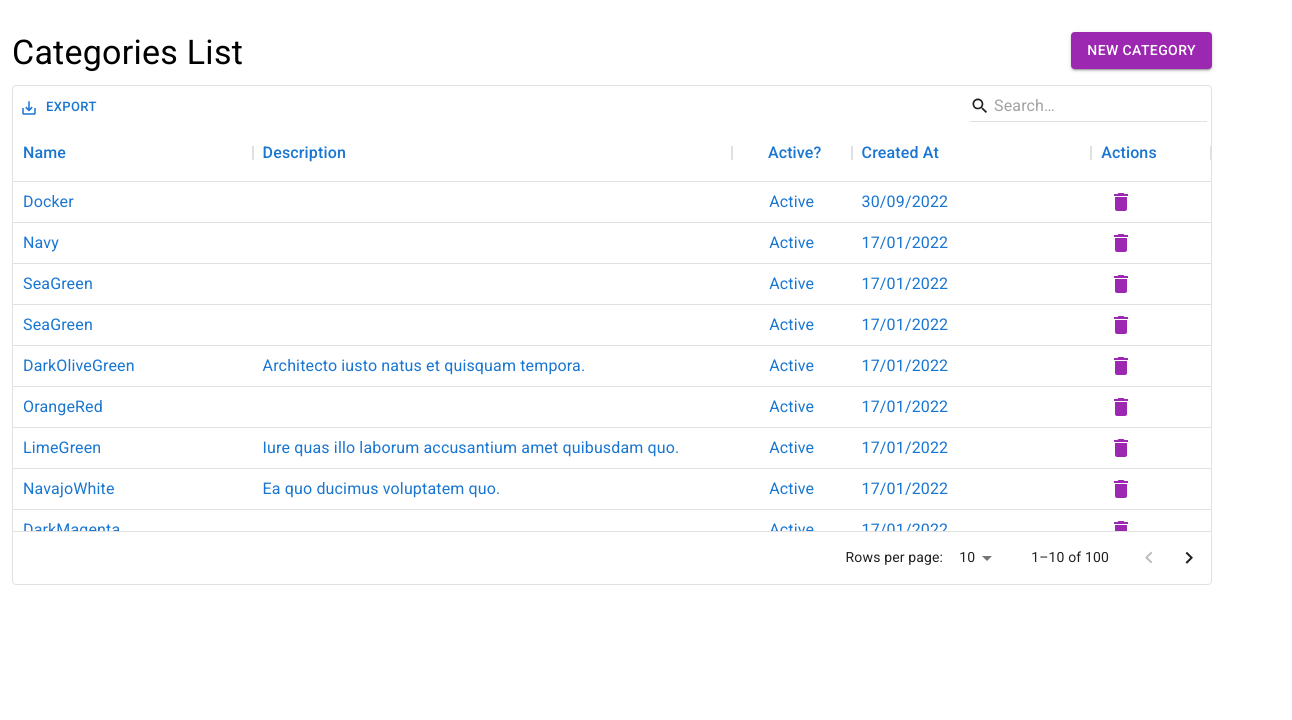
Test: CategoryList › should handle on page change
Expected: the text "Docker" is shown, [23, 190, 74, 214]
Click the button with test id "KeyboardArrowRightIcon".
click(1189, 558)  # box [1169, 538, 1209, 578]
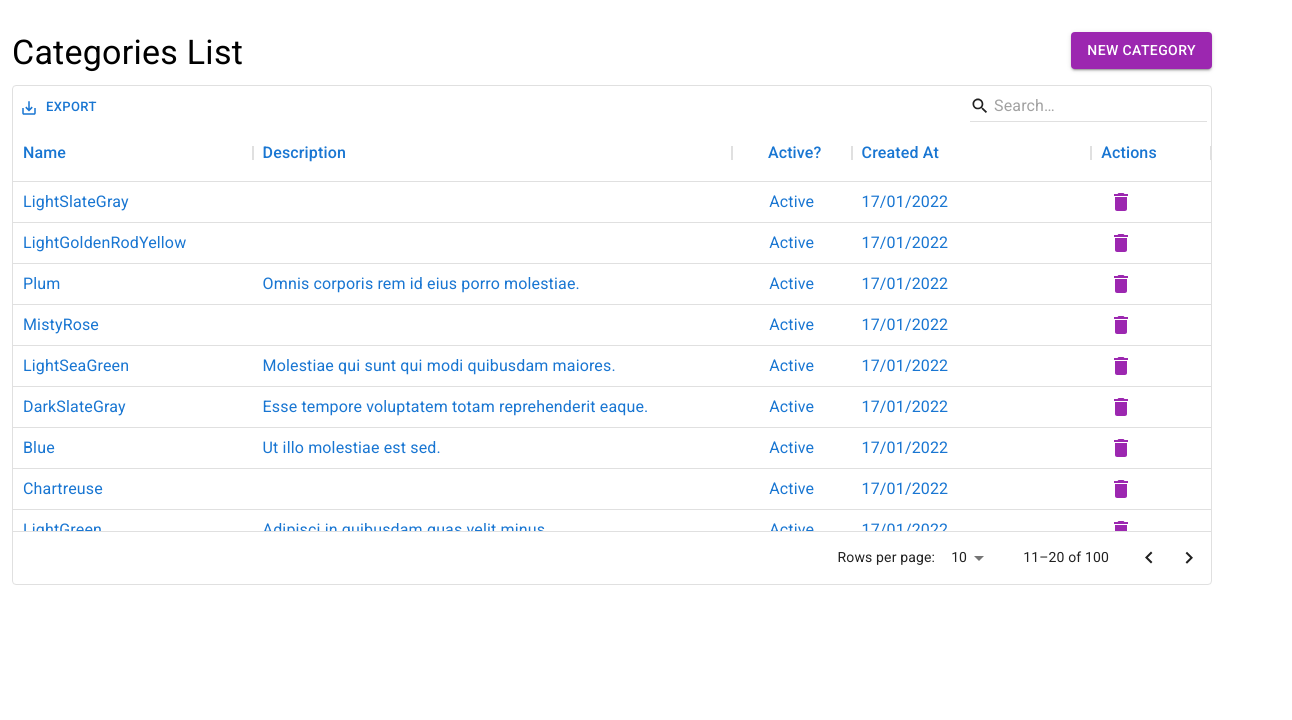
Expected: the text "LightSlateGray" is shown, [23, 190, 129, 214]
